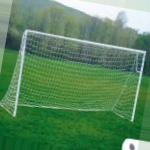goals: (1, 27, 147, 124)
